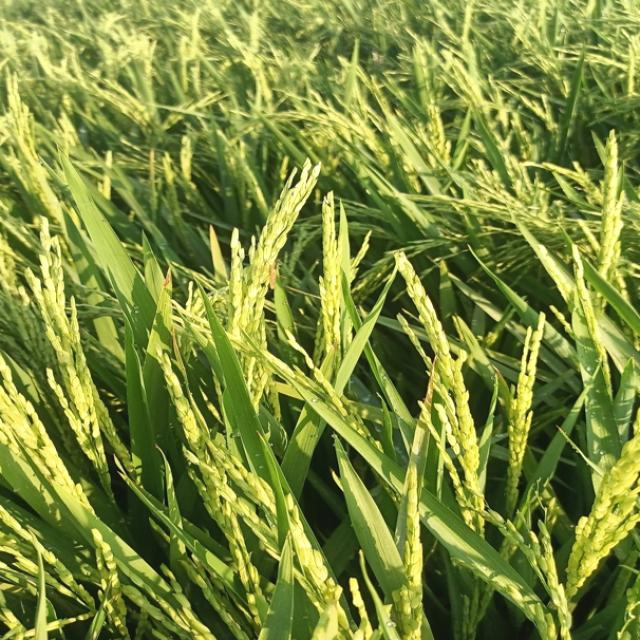Walang Sangit: (264, 259, 283, 292)
brown spot: (160, 270, 175, 292)
